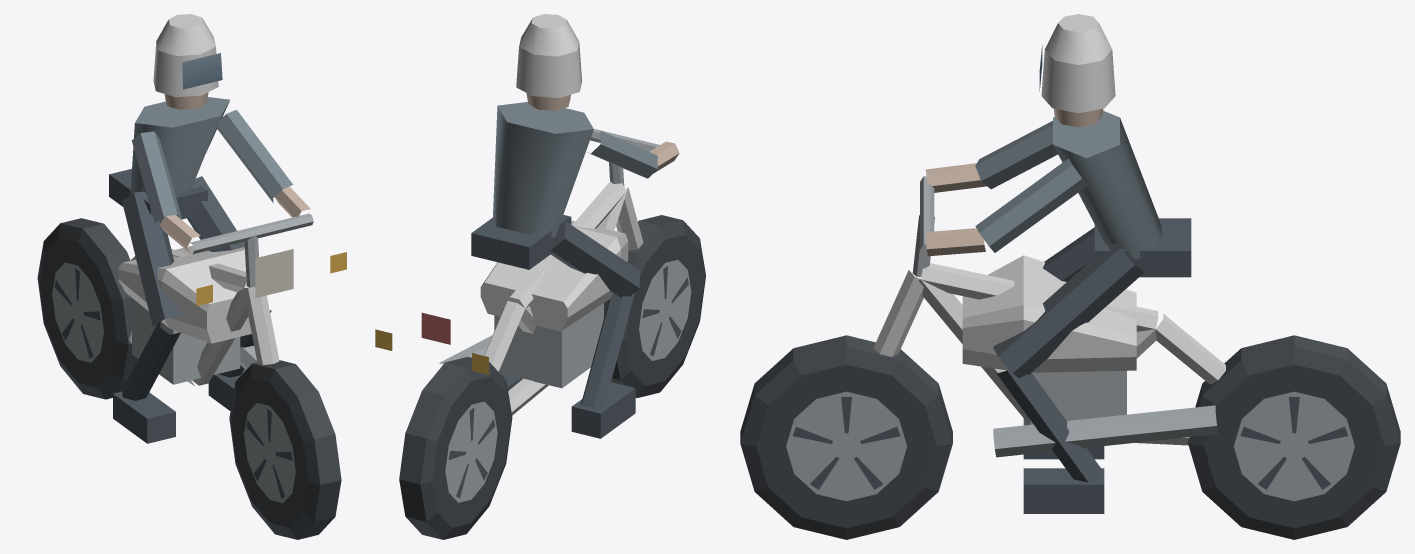
File: motorcycle.glb
3 views of the same model, side by side, from view 1: azimuth 30°, elevation 25°; view 2: azimuth 150°, elevation 25°; view 3: azimuth 270°, elevation 25° (orthographic). The views are drawn at different scales.
Visible parts, largest first — view 1: body; view 2: body; view 3: body.
Boxes of the visible parts, x1,y1,x2,y2 form: body: [37, 14, 346, 539]; body: [375, 14, 705, 539]; body: [740, 14, 1400, 539].
Bounding box in the file's own units: 0.63 × 1.75 × 2.05.
